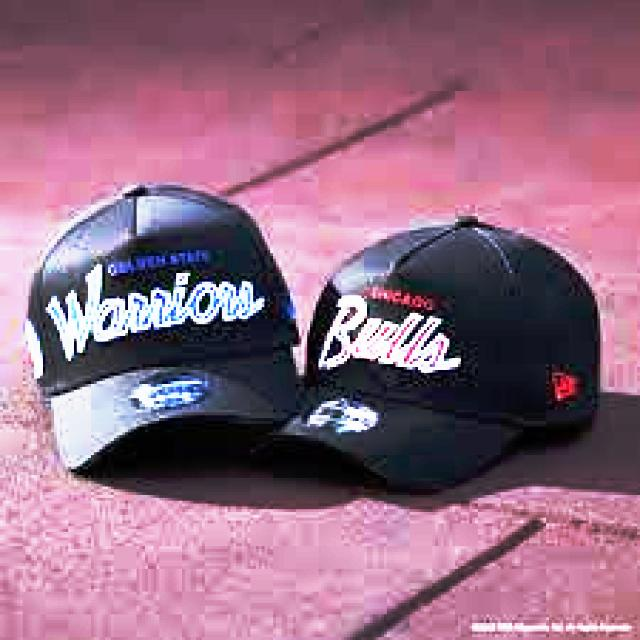TOPI: (256, 204, 609, 500), (12, 168, 290, 464)
